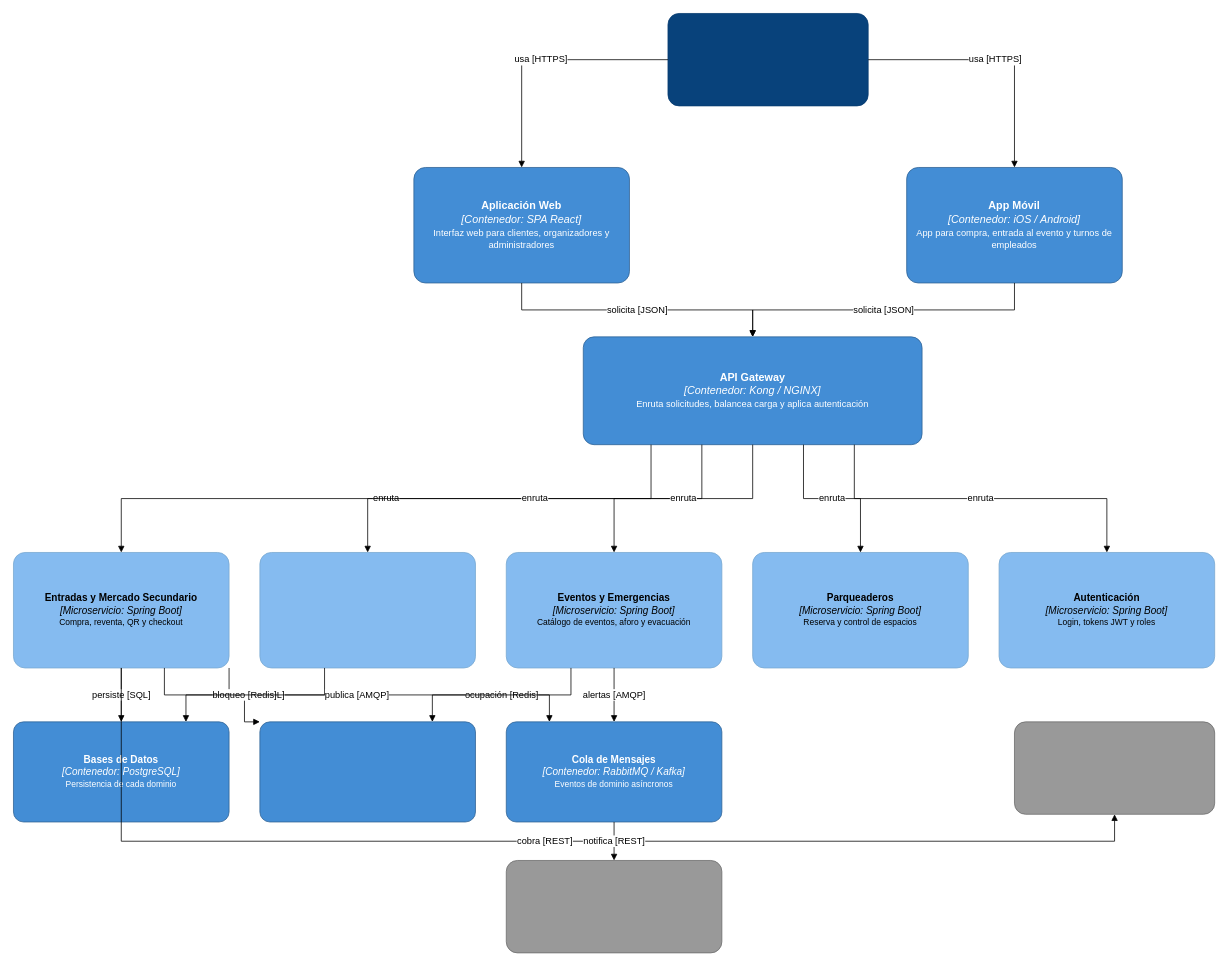
Some shapes in this 1228 by 966 pixel diagram are drawn without their labels. Each missing label, with the centre of its shape:
"Pasarela de Pagos [Sistema externo] Procesa cobros y reembolsos" belongs at [1114,767].
"Personal [Microservicio: Spring Boot] Turnos, asignaciones e ingreso/salida" belongs at [367,610].
"Proveedor de Notificaciones [Sistema externo] Push, correo y SMS" belongs at [614,906].
"Redis [Contenedor: Redis] Caché y bloqueos de concurrencia" belongs at [367,771].
"Usuario [Persona] Cualquier rol del diagrama de contexto" belongs at [767,59].
